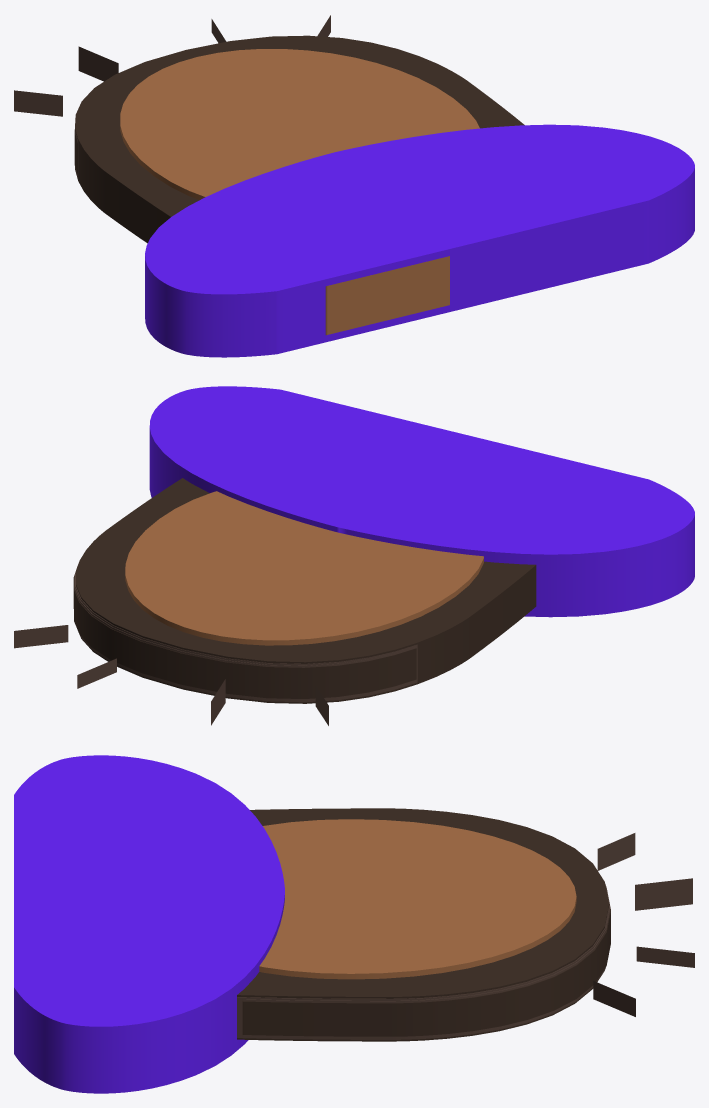
The model's file is emoji_u1f647_1f3fe_200d_2640.glb.
The picture shows the model from 3 angles, top to bottom: view 1: azimuth 30°, elevation 25°; view 2: azimuth 150°, elevation 25°; view 3: azimuth 270°, elevation 25°; orthographic projection. The views are drawn at different scales.
Parts seen in each view (by area): view 1: emoji_u1f647_1f3fe_200d_2640; view 2: emoji_u1f647_1f3fe_200d_2640; view 3: emoji_u1f647_1f3fe_200d_2640.
Boxes of the visible parts, left/top/right/bottom form: emoji_u1f647_1f3fe_200d_2640: left=14, top=15, right=694, bottom=357; emoji_u1f647_1f3fe_200d_2640: left=14, top=386, right=694, bottom=725; emoji_u1f647_1f3fe_200d_2640: left=14, top=755, right=694, bottom=1093.
Size of the model in its own units: 0.0313 by 0.0036 by 0.0332.
